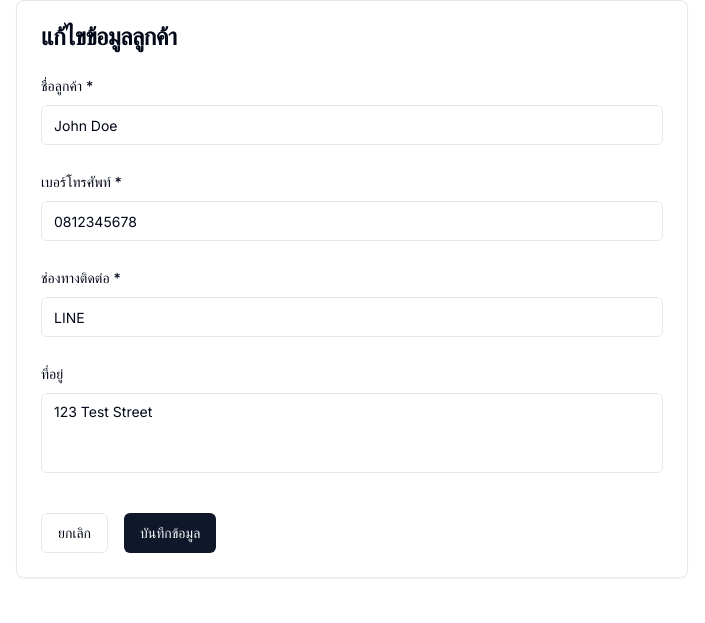
Test: CustomerForm › Edit Mode › should handle edit validation errors
Clear the name field - this will trigger client-side validation
Clear the field labelled "ชื่อลูกค้า *" at x=352, y=125, box [41,105,663,145]
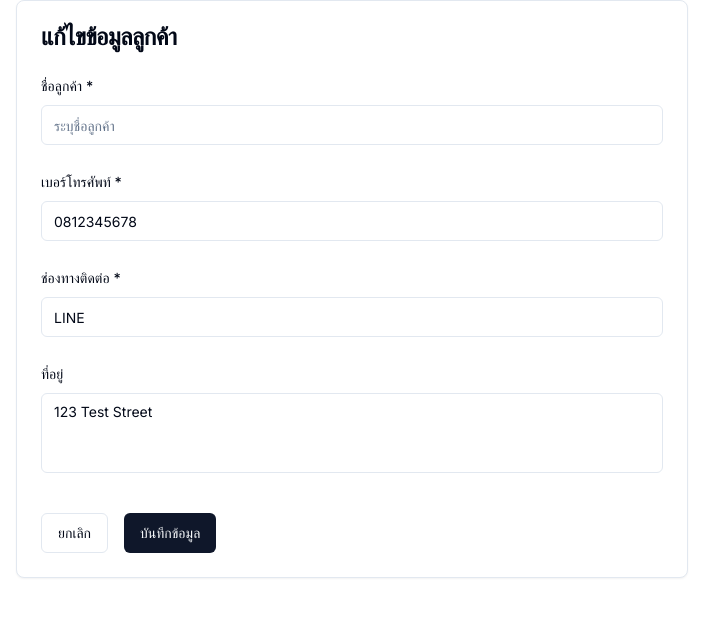
Click the button "บันทึกข้อมูล" at x=170, y=533, box [124,513,216,553]
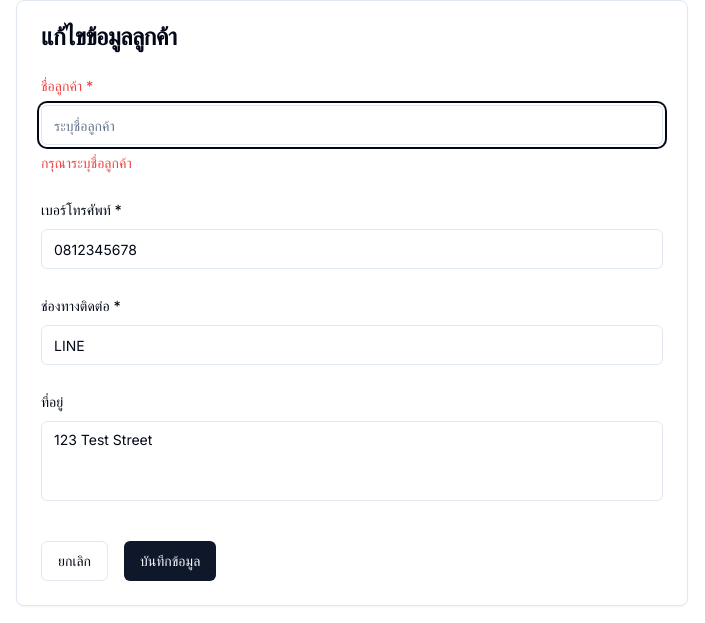
Now the text "กรุณาระบุชื่อลูกค้า" is shown, box [41,154,132,171]
